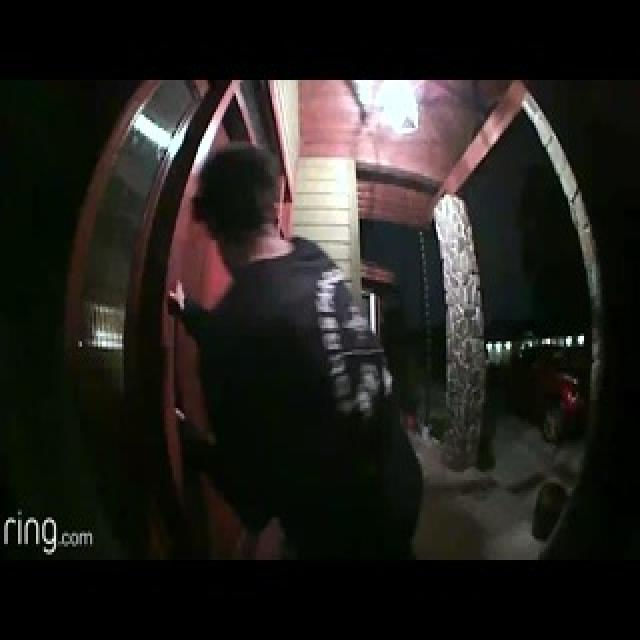thief: (157, 131, 309, 322)
